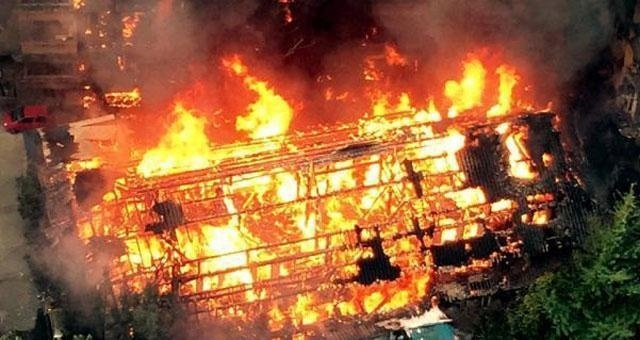fire: (88, 35, 544, 331)
